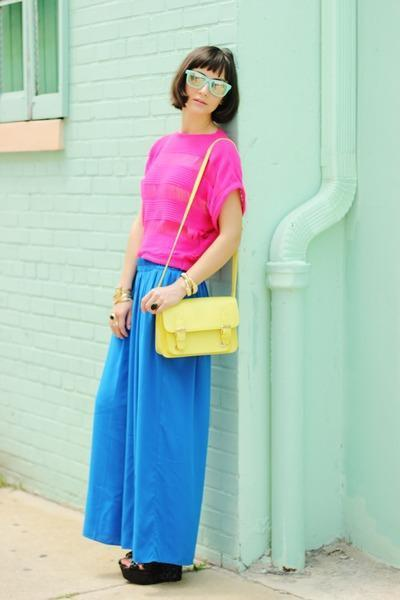bag: (141, 204, 239, 357)
shirt: (138, 132, 243, 270)
shoe: (103, 544, 179, 584)
skirt: (84, 258, 210, 565)
